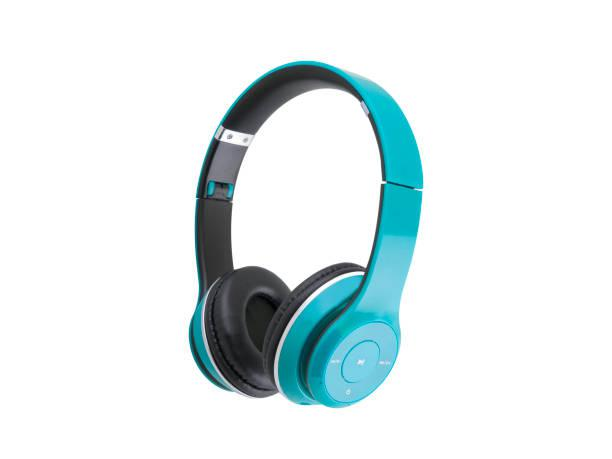headphone: (187, 62, 460, 406)
